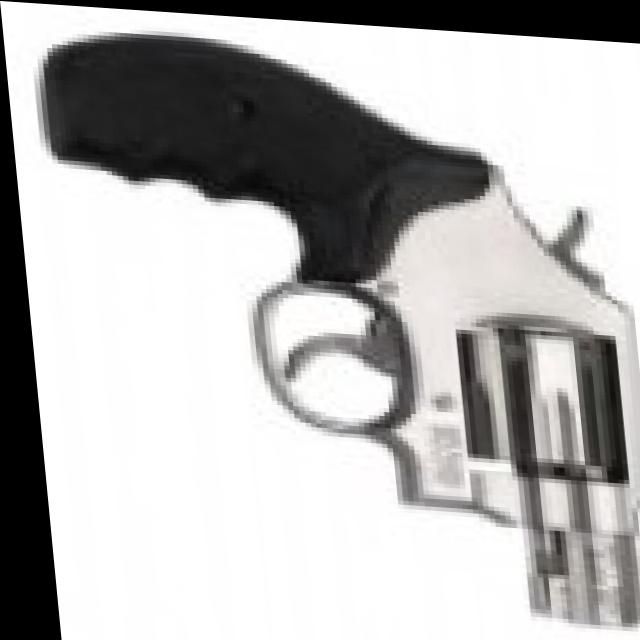handgun: (39, 18, 640, 612)
